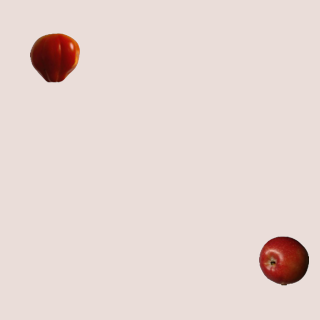Apple Braeburn: (258, 235, 308, 285)
Tomato 1: (29, 32, 79, 82)
